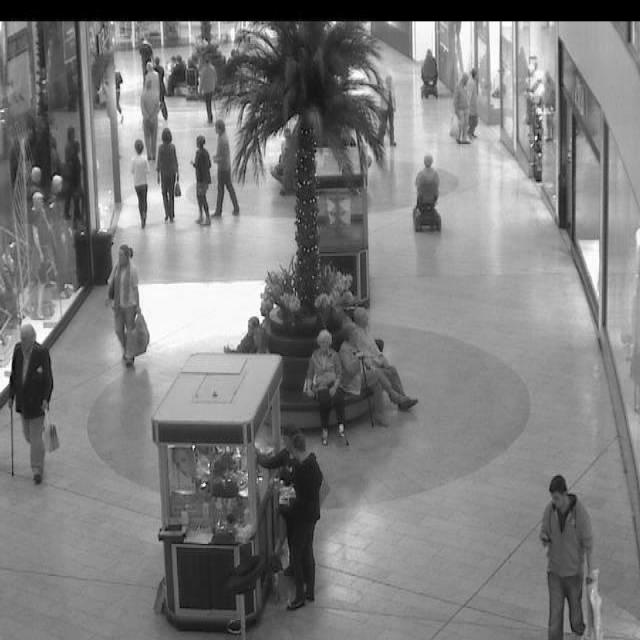person: (258, 428, 324, 612), (538, 472, 596, 640), (0, 322, 55, 486), (339, 312, 418, 425), (331, 338, 390, 435), (108, 245, 146, 363), (303, 333, 342, 447), (140, 51, 169, 161), (376, 67, 406, 161), (210, 132, 243, 216), (154, 131, 180, 222), (129, 144, 152, 228), (414, 155, 441, 224), (192, 136, 214, 220), (456, 70, 480, 142), (200, 53, 220, 123), (132, 28, 154, 68), (110, 64, 124, 125), (422, 46, 438, 98), (167, 56, 186, 96), (98, 74, 109, 119)
